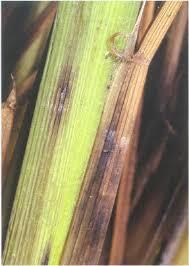Stem Rot: (25, 0, 94, 147), (40, 27, 84, 141)
